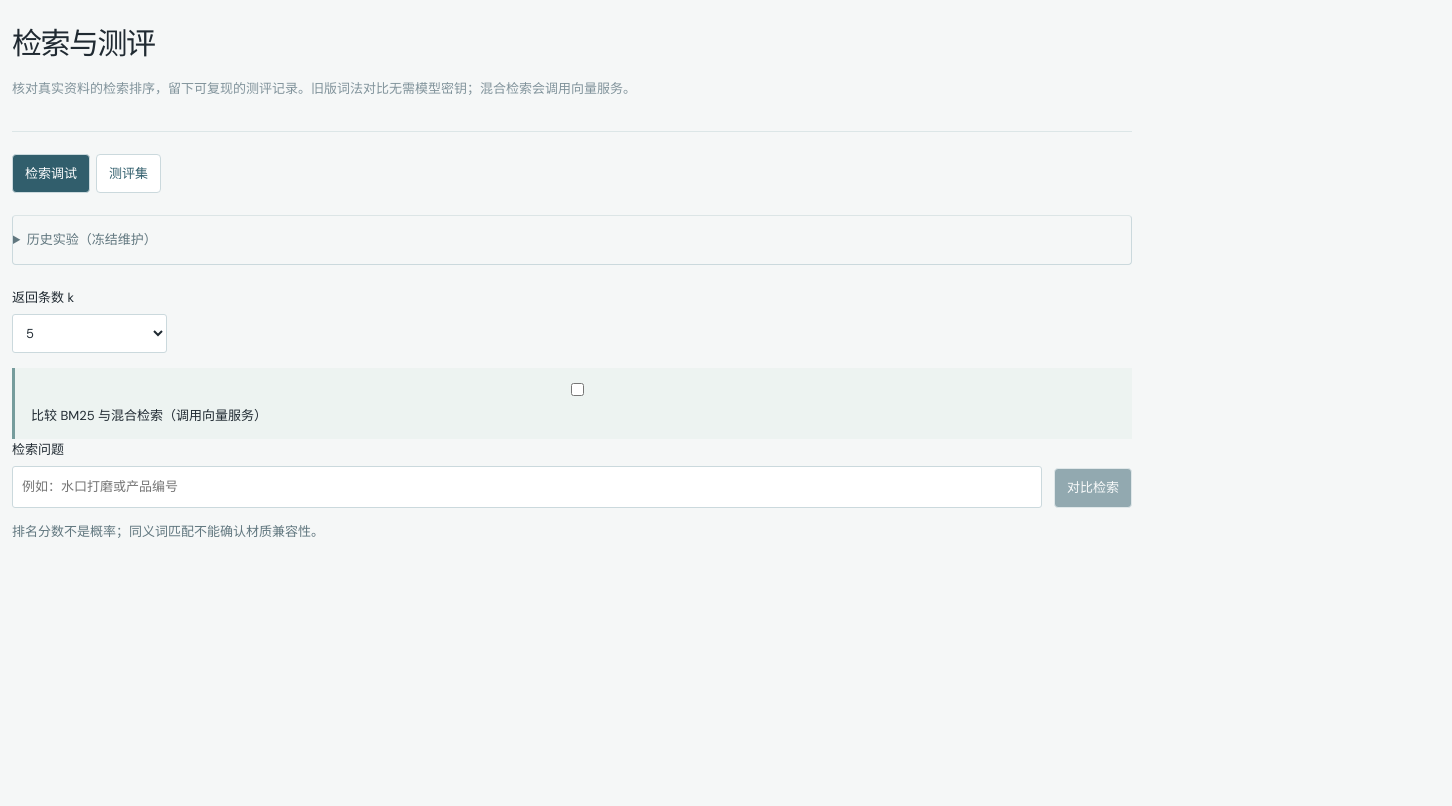
Test: resumes an active history job, polls progress, and stops polling when unmounted
The width and height of the screenshot is (1452, 806).
Click the heading "历史实验（冻结维护）". click: (92, 240)
box: [27,231,157,248]
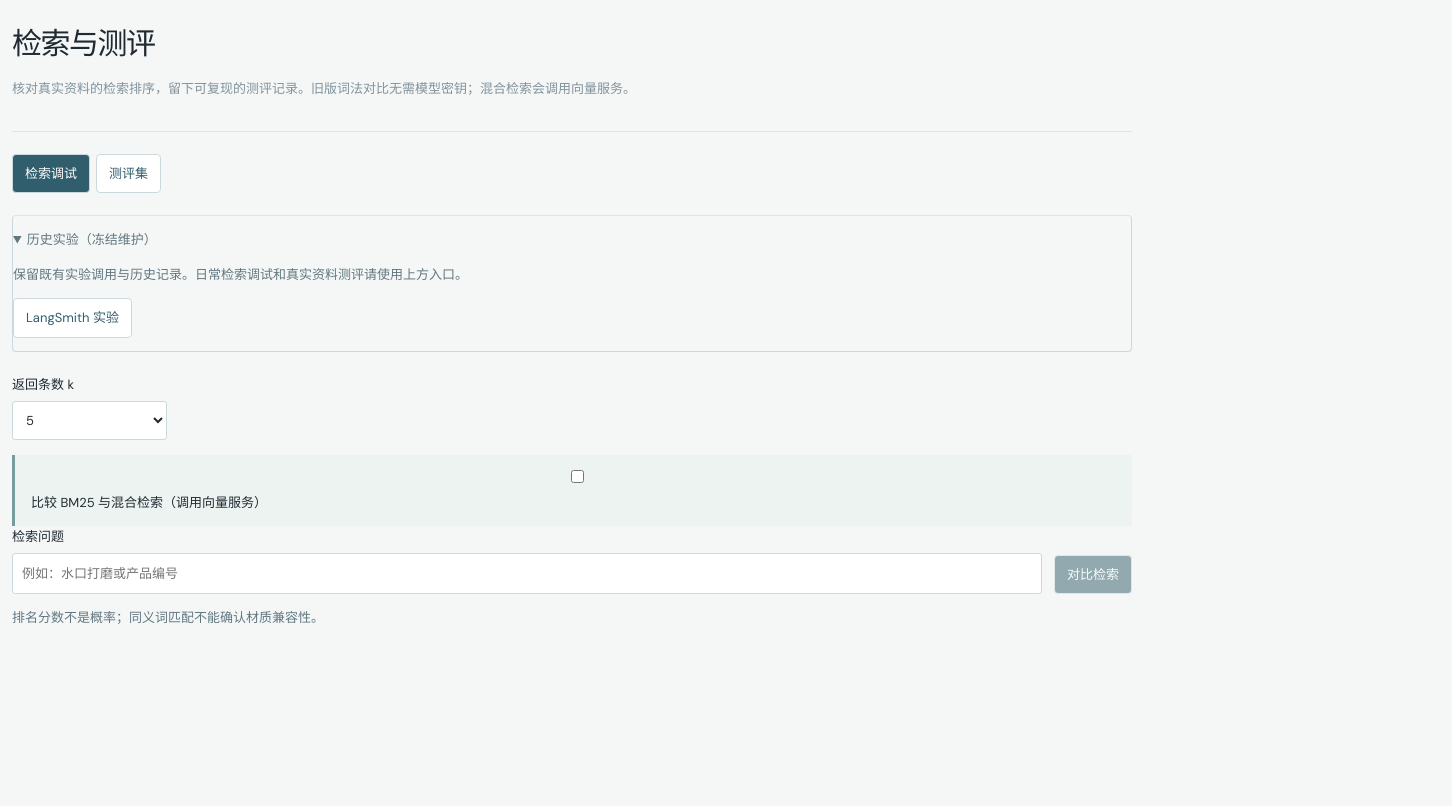
Click the button "LangSmith 实验". click: (72, 318)
box: [13,298,132,338]
(page scrolled)
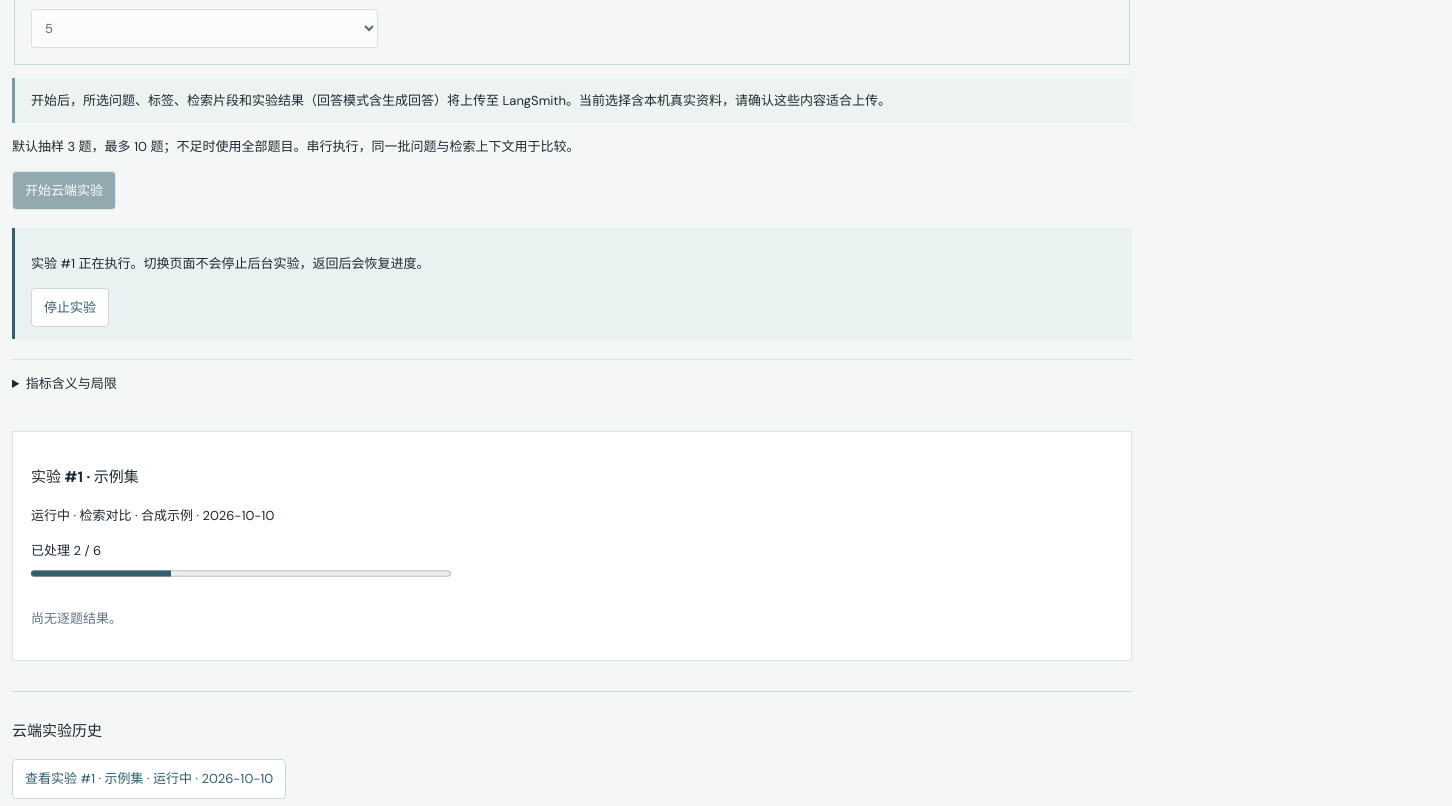
Expected: the heading "实验 #1 · 示例集" is shown, [31,467,139,487]
